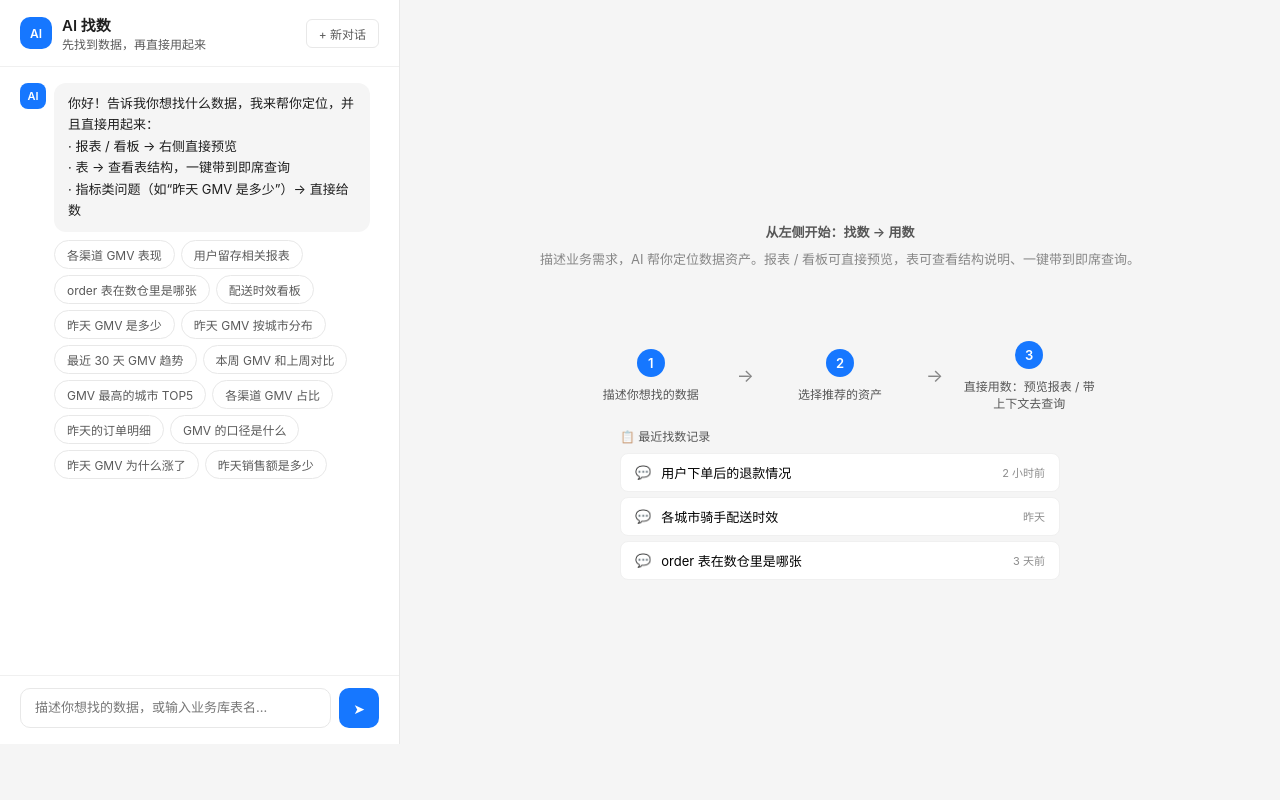
Test: AIFindDataPage › 指标确认：销售额命中两个候选
Type "昨天销售额是多少" into the text box with class "ai-find__input" at (176, 708), box [20, 688, 331, 728]
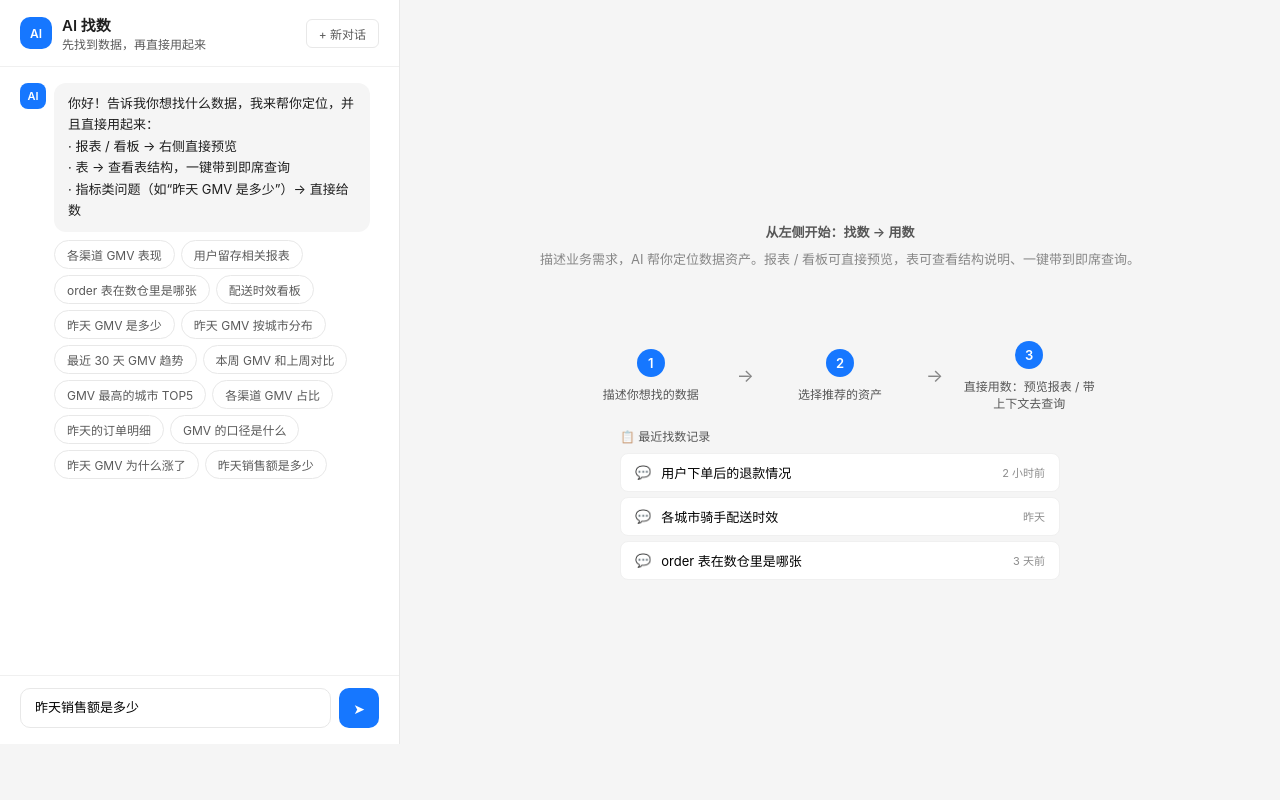
Press Enter in the text box with class "ai-find__input", box [20, 688, 331, 728]
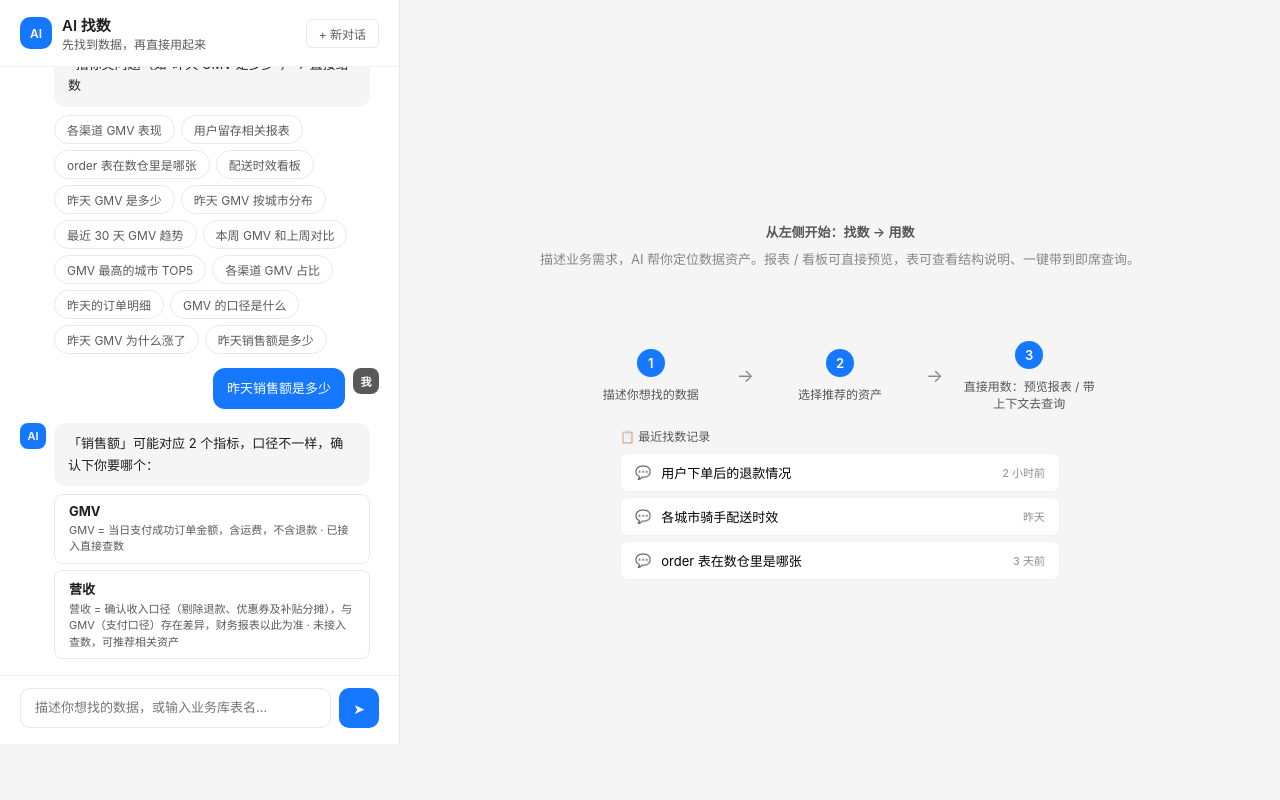
Expected: the text "「销售额」可能对应 2 个指标，口径不一样，确认下你要哪个：" is shown, [54, 423, 370, 486]
Expected: the number of buttons with class "ai-find__ask-option--rich" is 2, [54, 494, 370, 564]; [54, 570, 370, 659]
Expected: the button with class "ai-find__ask-option--rich" shows "GMV", [54, 494, 370, 564]
